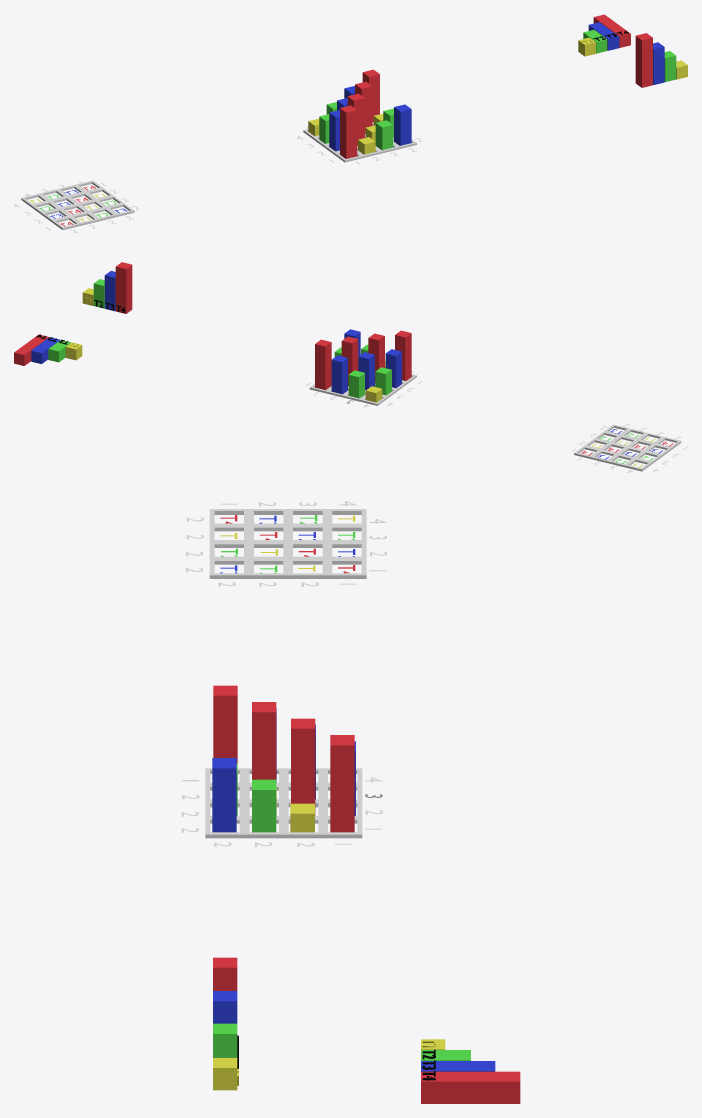
File: Rush01.fbx
3 renders of one model, top to bottom at view 1: azimuth 30°, elevation 25°; view 2: azimuth 150°, elevation 25°; view 3: azimuth 270°, elevation 25°, orthographic. The views are drawn at different scales.
Visible parts, largest first — view 1: Plane.001, Text.003, Cube.019, Cube.023, Plane, Cube.021, Cube.001, Text.002, Cube.012, Cube.018, Text.037, Cube.017 (+2 smaller); view 2: Plane.001, Text.003, Cube.001, Cube.002, Cube.019, Plane, Cube.012, Cube.017, Cube.018, Text.037, Cube.011, Text.002 (+4 smaller); view 3: Plane.001, Plane, Text.037, Cube.001, Cube.012, Cube.018, Cube.023, Cube.019, Cube.014, Text.001.
Part boxes in pixels (box(x1,y1,x2,y2)): Plane.001: box(21, 180, 134, 229); Text.003: box(635, 33, 652, 87); Cube.019: box(340, 105, 357, 158); Cube.023: box(394, 104, 411, 145); Plane: box(303, 122, 416, 162); Cube.021: box(375, 120, 393, 150); Cube.001: box(362, 69, 379, 121); Text.002: box(653, 42, 664, 84); Cube.012: box(355, 81, 372, 133); Cube.018: box(347, 93, 364, 145); Text.037: box(593, 14, 630, 47); Cube.017: box(329, 110, 339, 151); Plane.001: box(574, 424, 681, 471); Text.003: box(115, 262, 132, 313); Cube.001: box(315, 339, 331, 390); Cube.002: box(331, 355, 347, 394); Cube.019: box(395, 330, 411, 380); Plane: box(309, 374, 416, 405); Cube.012: box(341, 336, 358, 385); Cube.017: box(385, 349, 401, 388); Cube.018: box(368, 333, 384, 382); Text.037: box(14, 334, 49, 365); Cube.011: box(358, 352, 374, 390); Text.002: box(104, 271, 115, 311); Plane.001: box(209, 509, 366, 578); Plane: box(205, 768, 362, 838); Text.037: box(421, 1071, 520, 1103); Cube.001: box(330, 735, 354, 832); Cube.012: box(291, 718, 315, 815); Cube.018: box(252, 702, 276, 779); Cube.023: box(212, 758, 236, 832); Cube.019: box(213, 685, 237, 763); Cube.014: box(252, 779, 276, 832); Text.001: box(213, 1023, 238, 1068).
Bounding box in the file's own units: 5689 × 464 × 1348.
